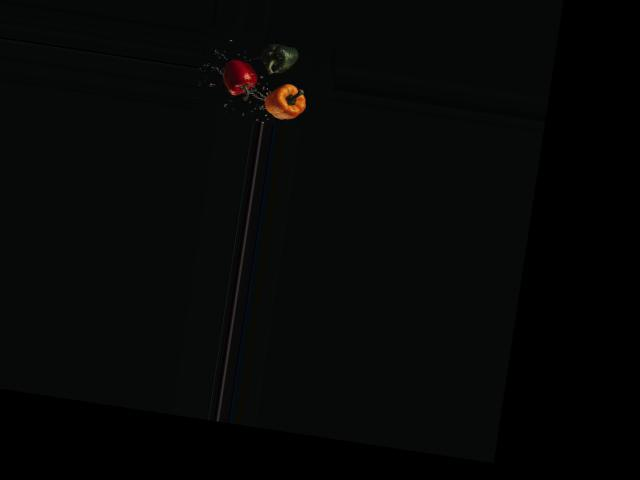bell_pepper: (218, 50, 267, 108)
